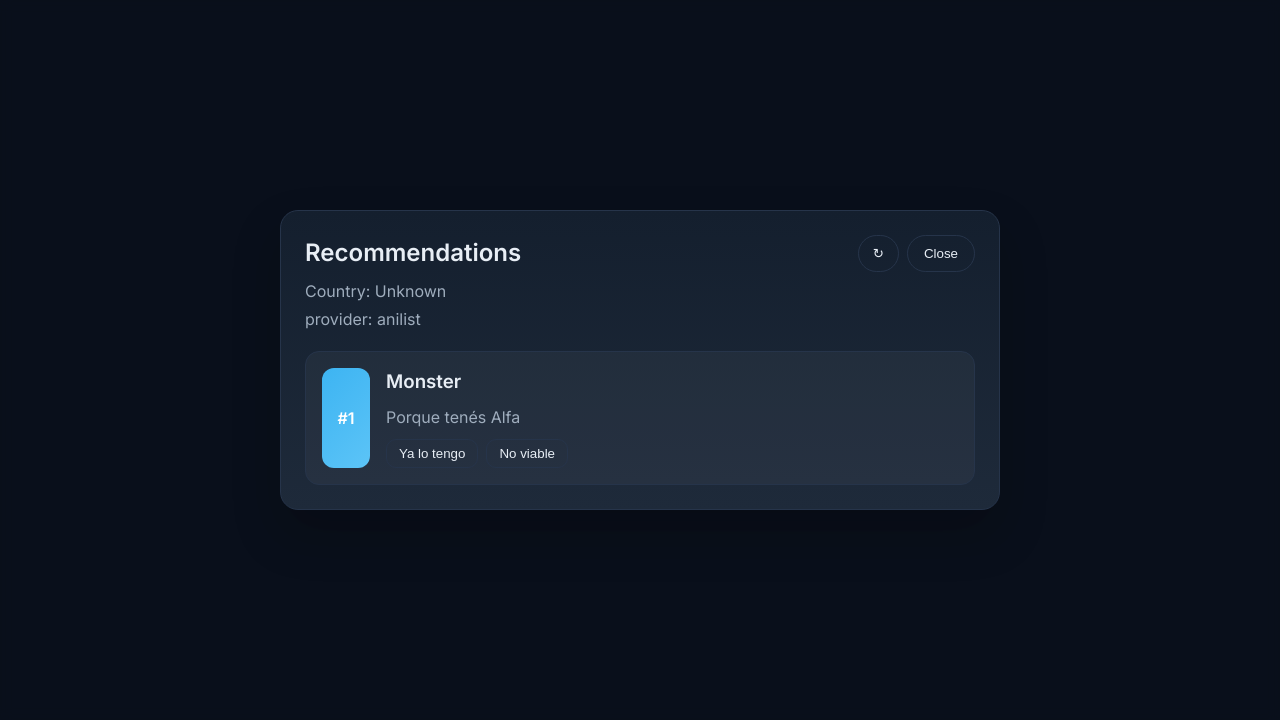
RecommendationModal · feedback AniList › "No viable" descarta y pide el relleno (limit 1)
Click the button "No viable": (527, 453) [486, 438, 568, 468]
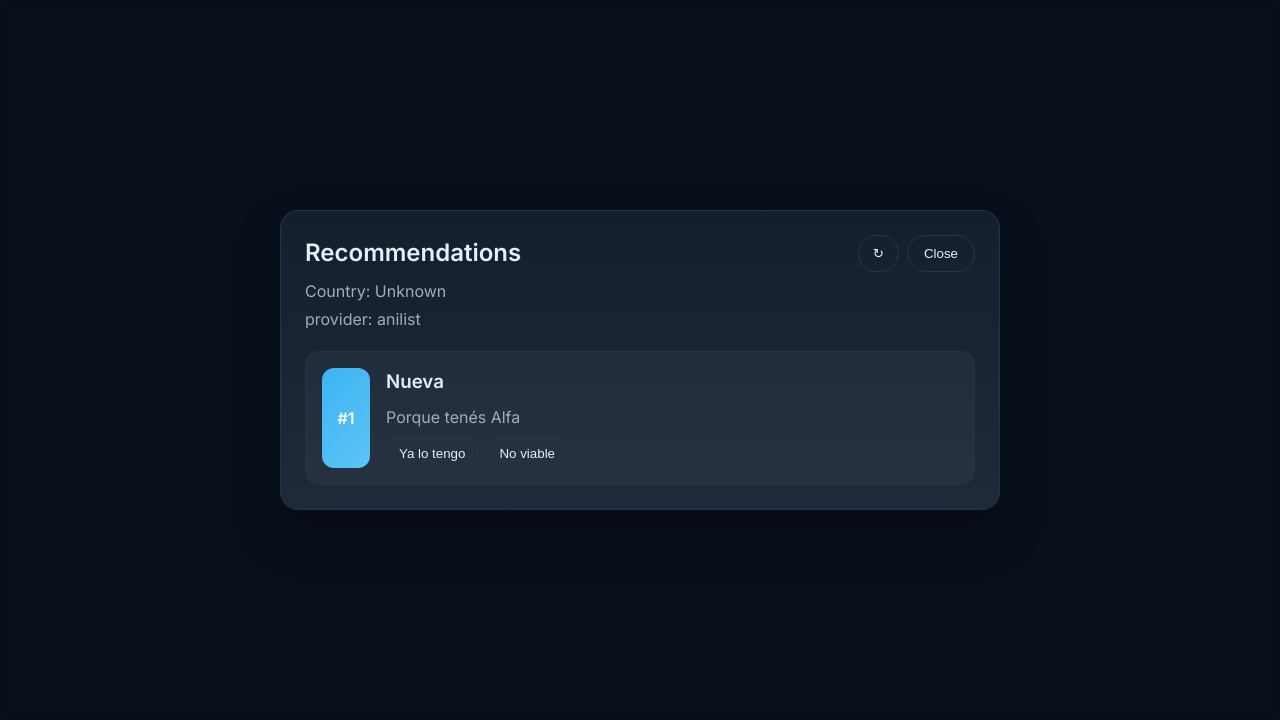
Check: the heading "Nueva" is shown, box [386, 370, 444, 394]
Check: the heading "Monster" is gone
